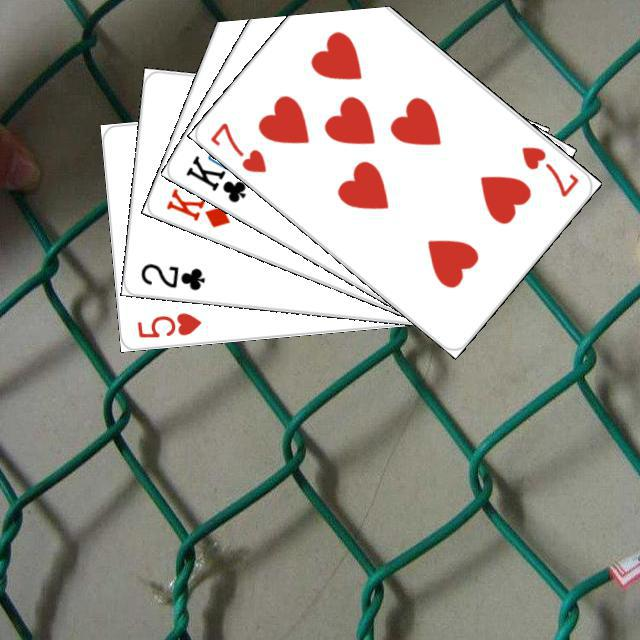2c: (136, 258, 207, 292)
5h: (132, 308, 203, 340)
7h: (516, 141, 581, 199), (204, 117, 268, 175)
Kc: (180, 150, 261, 205)
Kd: (161, 183, 232, 230)
